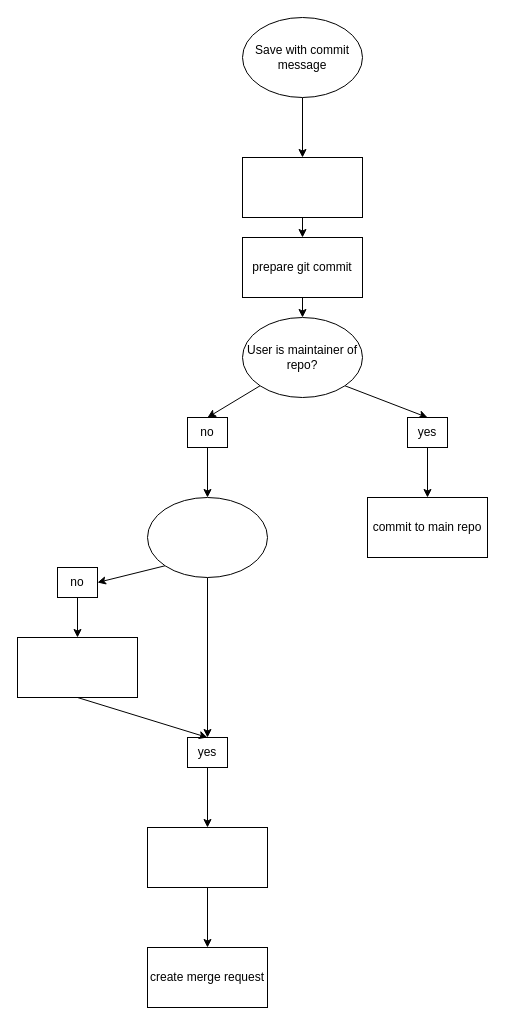
Image size: 505x1025. Some labels were removed from this diagram. The box of each missing label's shape, as (x1, y1, x2, y2) in pixels:
commit to fork repo on specific branch: (146, 826, 268, 888)
Create fork of repo: (16, 636, 138, 698)
serialize triple store to turtle: (242, 156, 362, 218)
User has fork of repo?: (146, 496, 268, 578)
